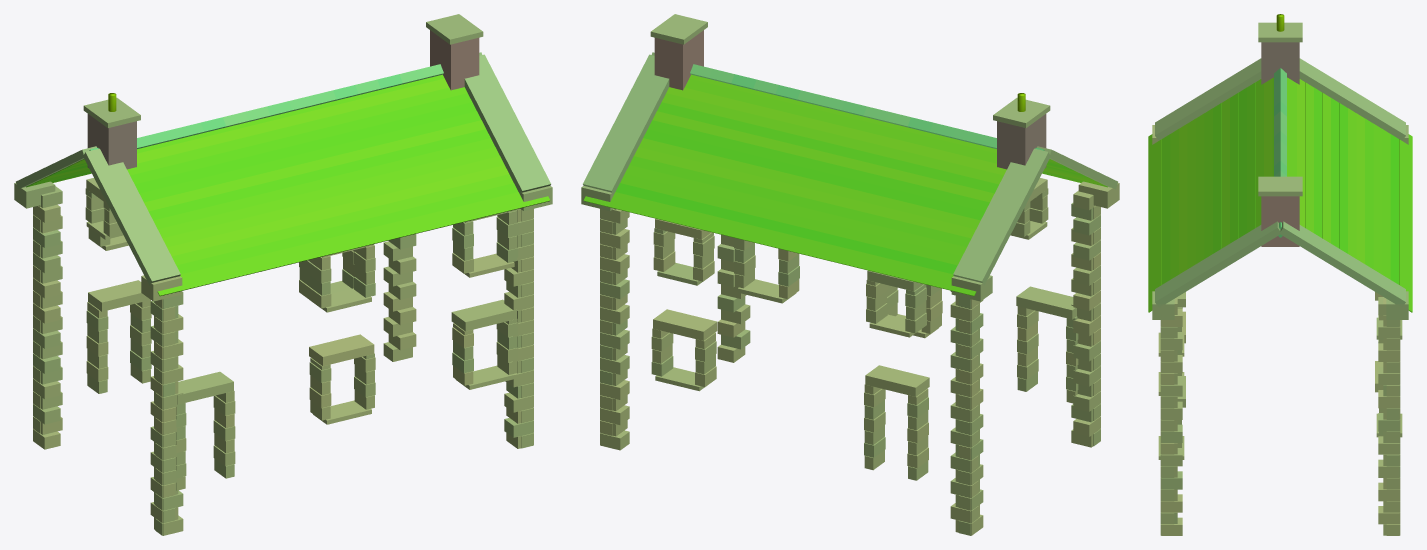
The model's file is SM_Bld_200_Stone.glb.
3 views of the same model, side by side, from view 1: azimuth 30°, elevation 25°; view 2: azimuth 150°, elevation 25°; view 3: azimuth 270°, elevation 25° (orthographic). The views are drawn at different scales.
Parts seen in each view (by area): view 1: SM_Bld_200_Stone; view 2: SM_Bld_200_Stone; view 3: SM_Bld_200_Stone.
Boxes of the visible parts, x1,y1,x2,y2 form: SM_Bld_200_Stone: (14, 14, 552, 535); SM_Bld_200_Stone: (581, 14, 1119, 535); SM_Bld_200_Stone: (1148, 14, 1412, 535).
Size of the model in its own units: 9.95 by 9.3 by 6.19.
